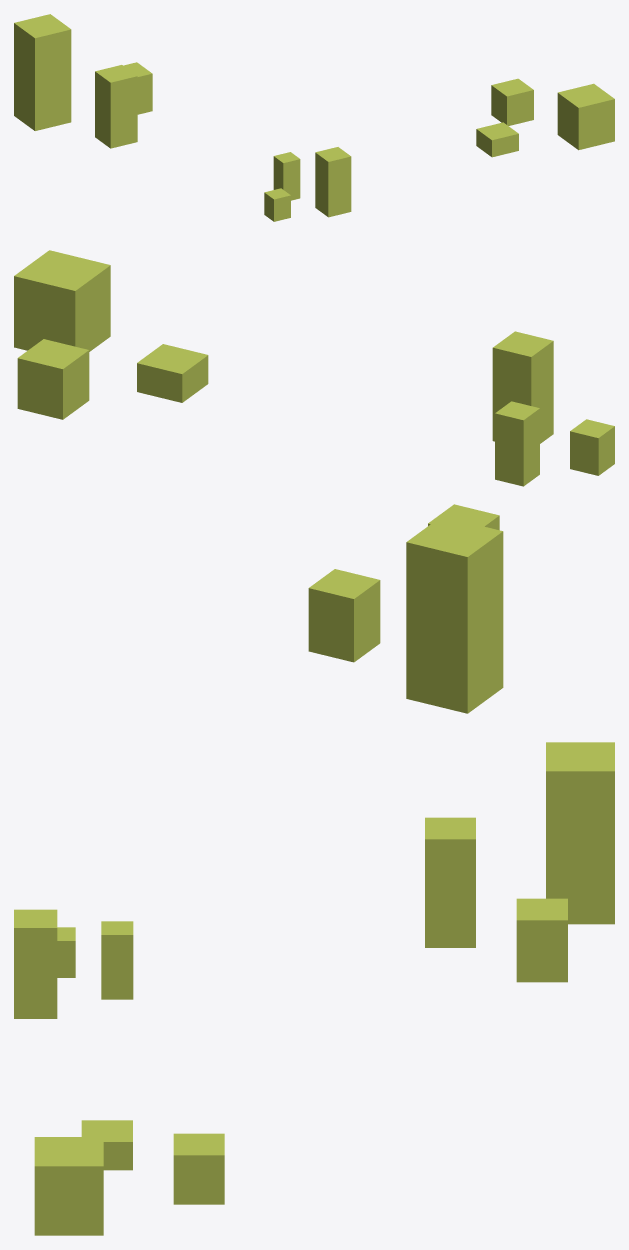
File: fbx_grass04.fbx
3 renders of one model, top to bottom at view 1: azimuth 30°, elevation 25°; view 2: azimuth 150°, elevation 25°; view 3: azimuth 270°, elevation 25°, orthographic. The views are drawn at different scales.
Parts seen in each view (by area): view 1: sm_grass04; view 2: sm_grass04; view 3: sm_grass04.
Part boxes in pixels (left/top/right/bottom): sm_grass04: left=14, top=14, right=614, bottom=221; sm_grass04: left=14, top=250, right=614, bottom=713; sm_grass04: left=14, top=742, right=614, bottom=1235.
Size of the model in its own units: 71.43 by 14.94 by 53.24.
